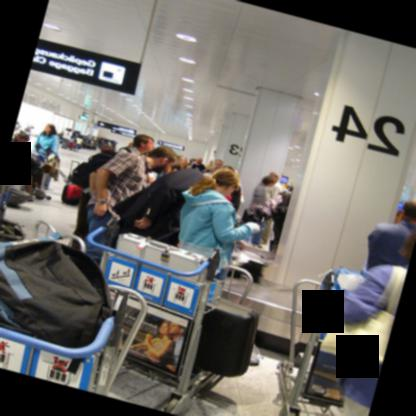backpack: (0, 234, 116, 345), (85, 147, 131, 171)
handbag: (0, 239, 118, 344), (316, 265, 407, 364)
suitcase: (192, 297, 258, 377), (114, 232, 210, 283), (61, 183, 83, 206), (243, 260, 264, 282), (240, 208, 260, 221)
